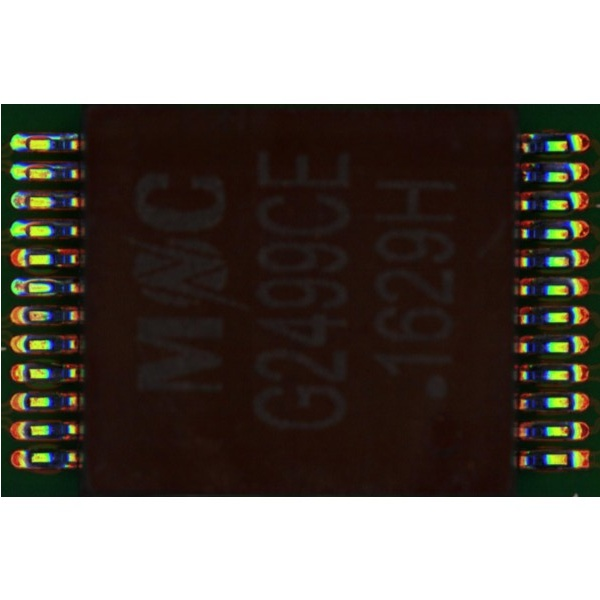Bad_podu: (18, 139, 36, 148), (19, 227, 35, 235), (19, 198, 37, 205), (21, 168, 33, 178), (19, 283, 30, 292)
Bad_qiaojiao: (29, 135, 68, 143), (29, 163, 69, 169), (28, 278, 68, 284)
